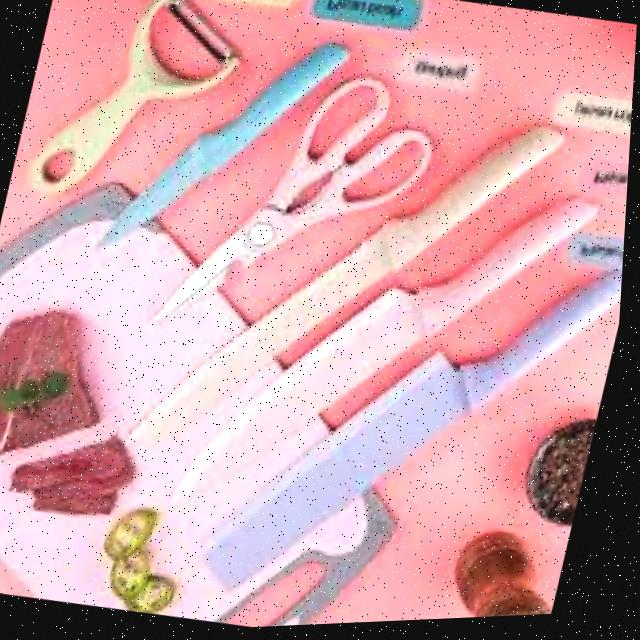knife: (124, 64, 572, 509), (165, 135, 608, 569), (194, 201, 630, 632), (93, 5, 354, 287)
